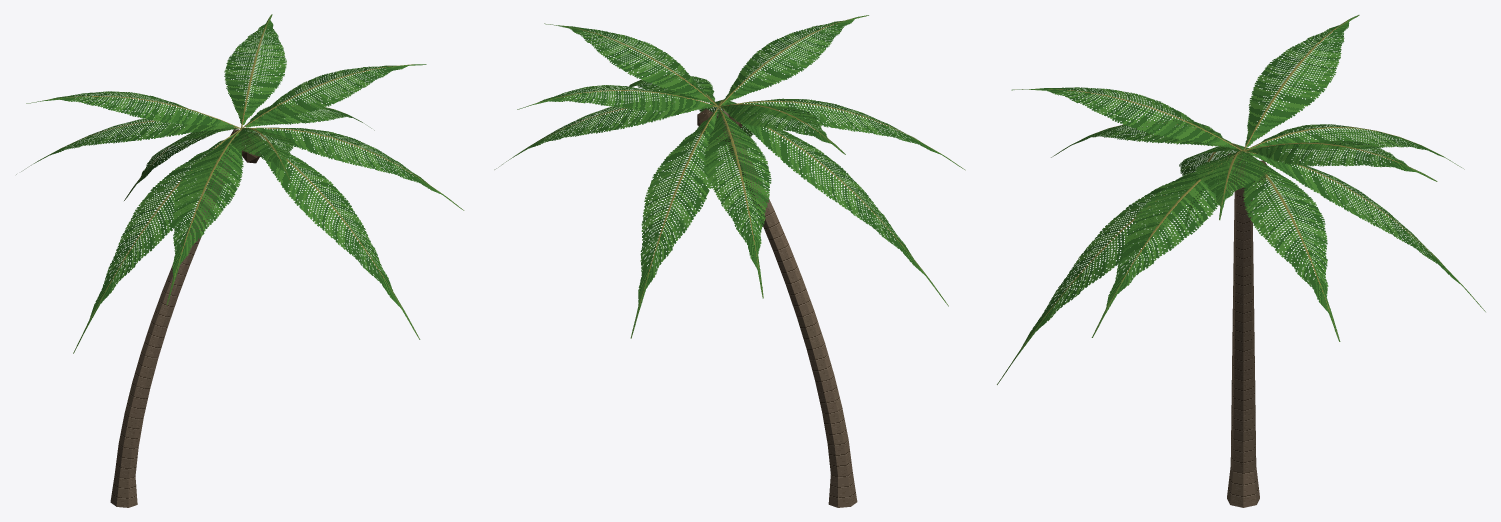
Rendered from palm.glb.
3 renders of one model, left to right at view 1: azimuth 30°, elevation 25°; view 2: azimuth 150°, elevation 25°; view 3: azimuth 270°, elevation 25°, orthographic. The views are drawn at different scales.
Parts seen in each view (by area): view 1: PalmFronds, PalmTrunk; view 2: PalmFronds, PalmTrunk; view 3: PalmFronds, PalmTrunk.
Part boxes in pixels (x1,y1,x2,y2): PalmFronds: (16, 14, 464, 353); PalmTrunk: (110, 129, 261, 507); PalmFronds: (494, 15, 965, 338); PalmTrunk: (697, 109, 857, 507); PalmFronds: (997, 15, 1485, 384); PalmTrunk: (1218, 153, 1269, 507).
Size of the model in its own units: 1.14 by 1.12 by 1.08.
Materials: 2 (2 with a texture image).
